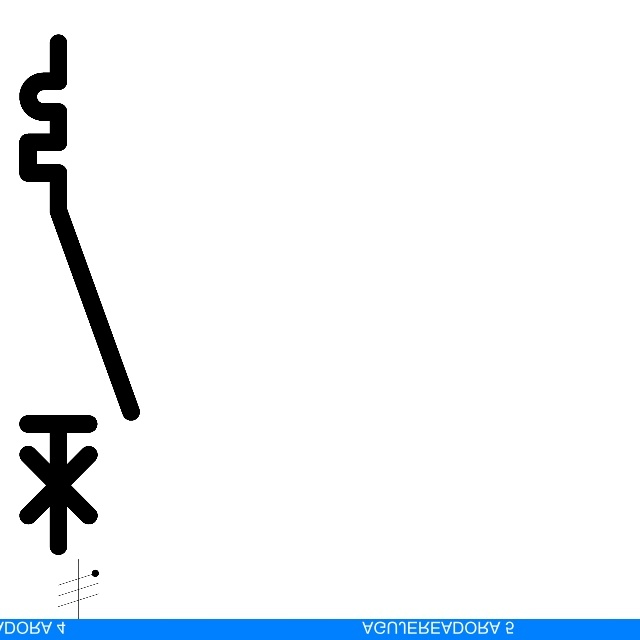interruptor_termomagnetico: (15, 30, 144, 559)
